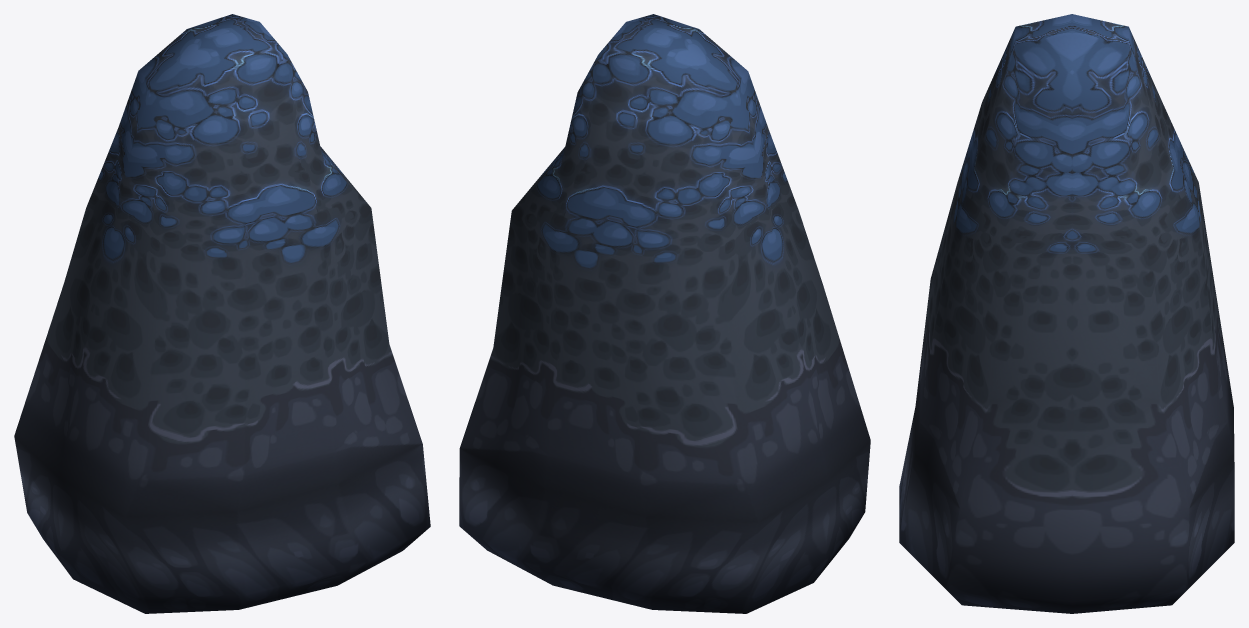
The model's file is Rock_05b.FBX.
The picture shows the model from 3 angles, left to right: view 1: azimuth 30°, elevation 25°; view 2: azimuth 150°, elevation 25°; view 3: azimuth 270°, elevation 25°; orthographic projection. The views are drawn at different scales.
Visible parts, largest first — view 1: Rock_05b; view 2: Rock_05b; view 3: Rock_05b.
Part boxes in pixels (box(x1,y1,x2,y2)): Rock_05b: box(14, 14, 430, 613); Rock_05b: box(459, 14, 870, 613); Rock_05b: box(899, 14, 1234, 613).
Bounding box in the file's own units: 142 × 210 × 121.
